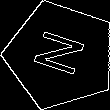N_E: (29, 28, 92, 83)
